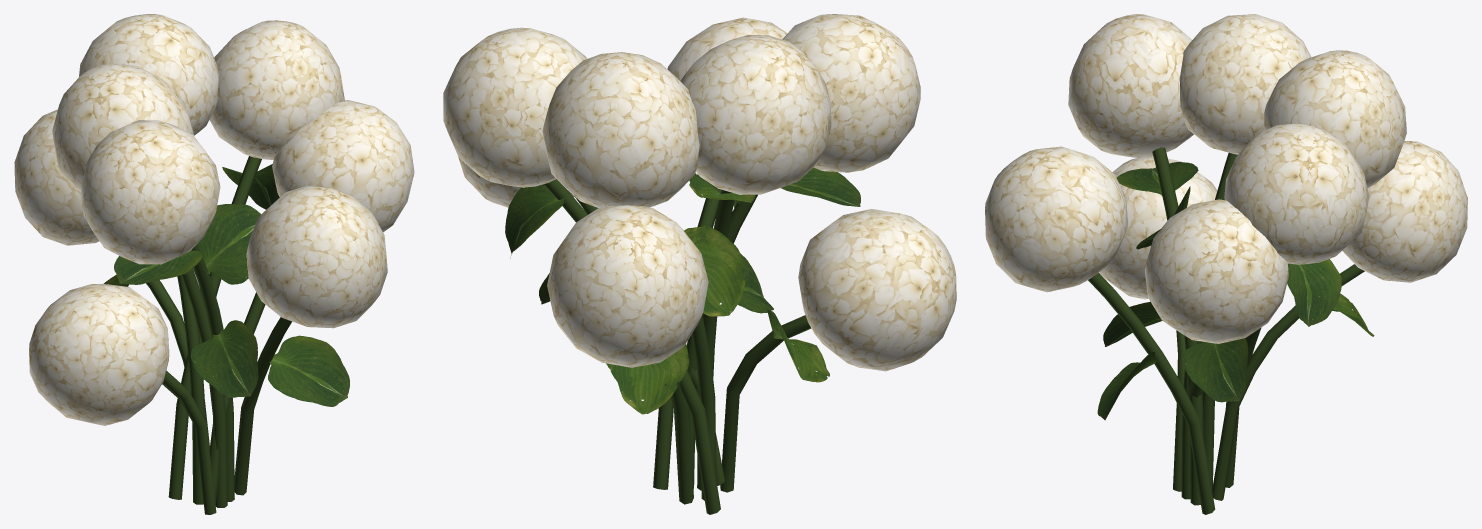
The model's file is DecorFlowerHydr01_2.FBX.
3 renders of one model, left to right at view 1: azimuth 30°, elevation 25°; view 2: azimuth 150°, elevation 25°; view 3: azimuth 270°, elevation 25°, orthographic. The views are drawn at different scales.
Parts seen in each view (by area): view 1: DecorFlowerHydr01_2; view 2: DecorFlowerHydr01_2; view 3: DecorFlowerHydr01_2.
Part boxes in pixels (x1=…): DecorFlowerHydr01_2: x1=14, y1=14, x2=414, y2=514; DecorFlowerHydr01_2: x1=443, y1=14, x2=956, y2=514; DecorFlowerHydr01_2: x1=985, y1=14, x2=1467, y2=514.
Size of what is drawn, in the model's own units: 0.4964 by 0.5202 by 0.5139.
